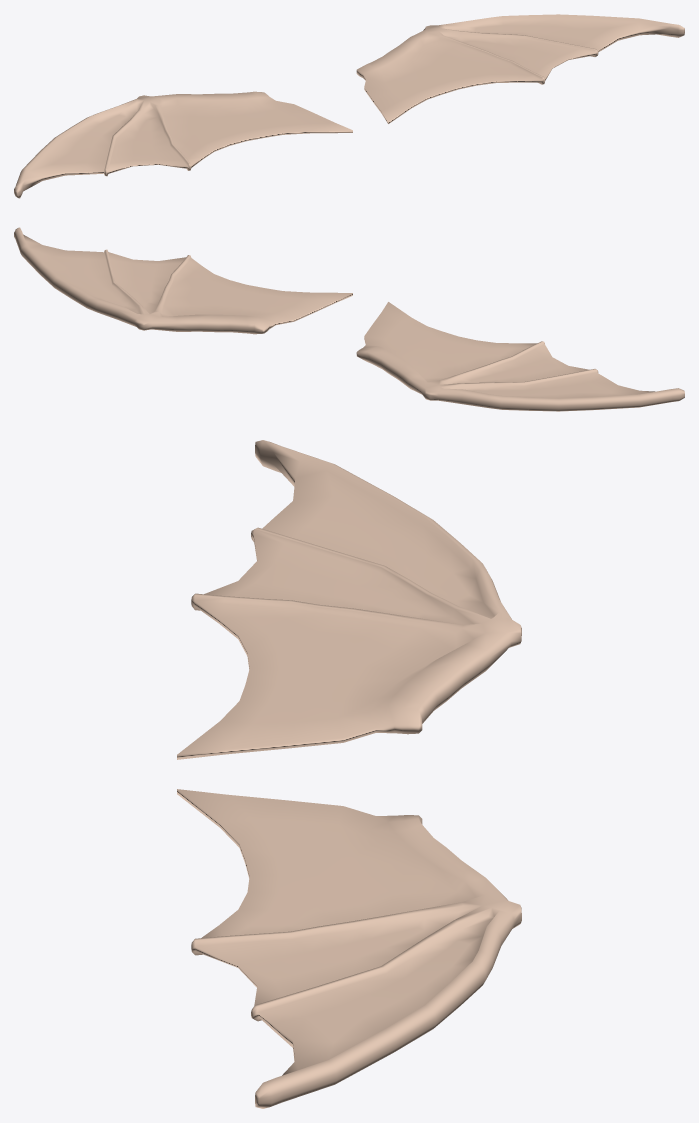
File: Dragon Wings.fbx
3 views of the same model, one above another, from view 1: azimuth 30°, elevation 25°; view 2: azimuth 150°, elevation 25°; view 3: azimuth 270°, elevation 25° (orthographic). The views are drawn at different scales.
Visible parts, largest first — view 1: Wings_batWings; view 2: Wings_batWings; view 3: Wings_batWings.
Part boxes in pixels (<box>): Wings_batWings: <box>14,14,684,198</box>; Wings_batWings: <box>14,227,684,411</box>; Wings_batWings: <box>177,440,521,1108</box>.
Size of the model in its own units: 139 by 2.99 by 30.99.
